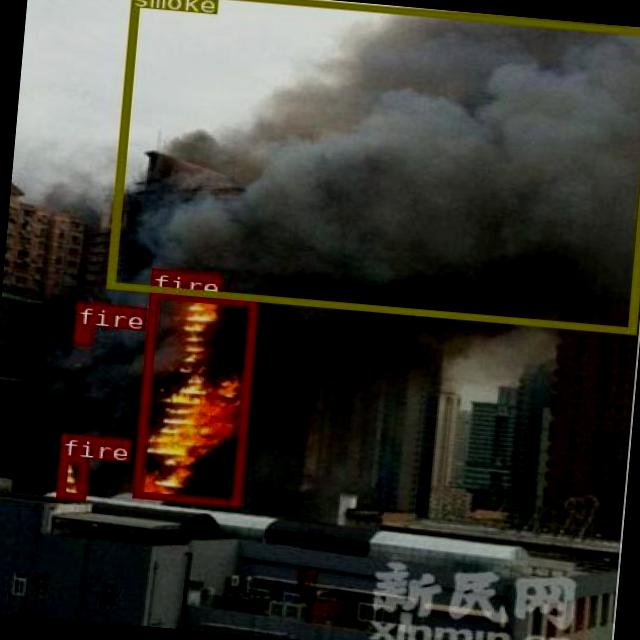fire: (132, 290, 256, 506), (56, 455, 86, 498), (71, 324, 90, 343)
smoke: (105, 0, 640, 333)
